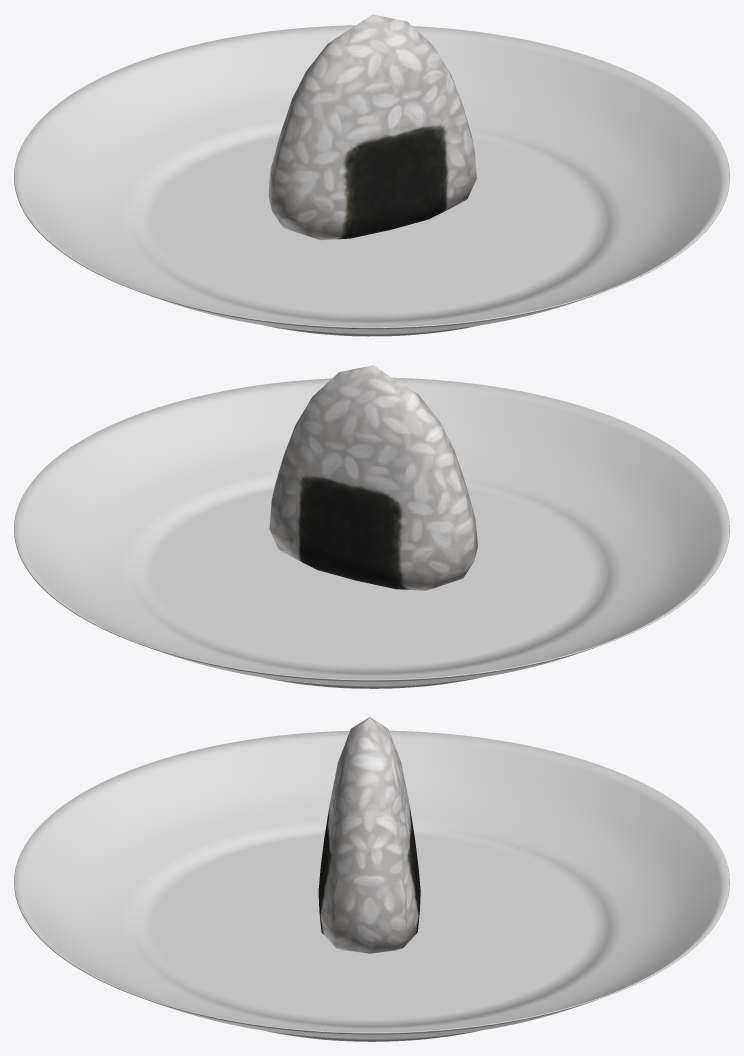
Rendered from Plato ArrozAlgasDEF.fbx.
3 renders of one model, top to bottom at view 1: azimuth 30°, elevation 25°; view 2: azimuth 150°, elevation 25°; view 3: azimuth 270°, elevation 25°, orthographic.
Parts seen in each view (by area): view 1: Cube; view 2: Cube; view 3: Cube.
Boxes of the visible parts, x1,y1,x2,y2 form: Cube: [14, 14, 729, 336]; Cube: [14, 365, 729, 688]; Cube: [14, 717, 729, 1041].
Bounding box in the file's own units: 51.97 × 18.16 × 51.97.
Materials: 2 (1 with a texture image).
